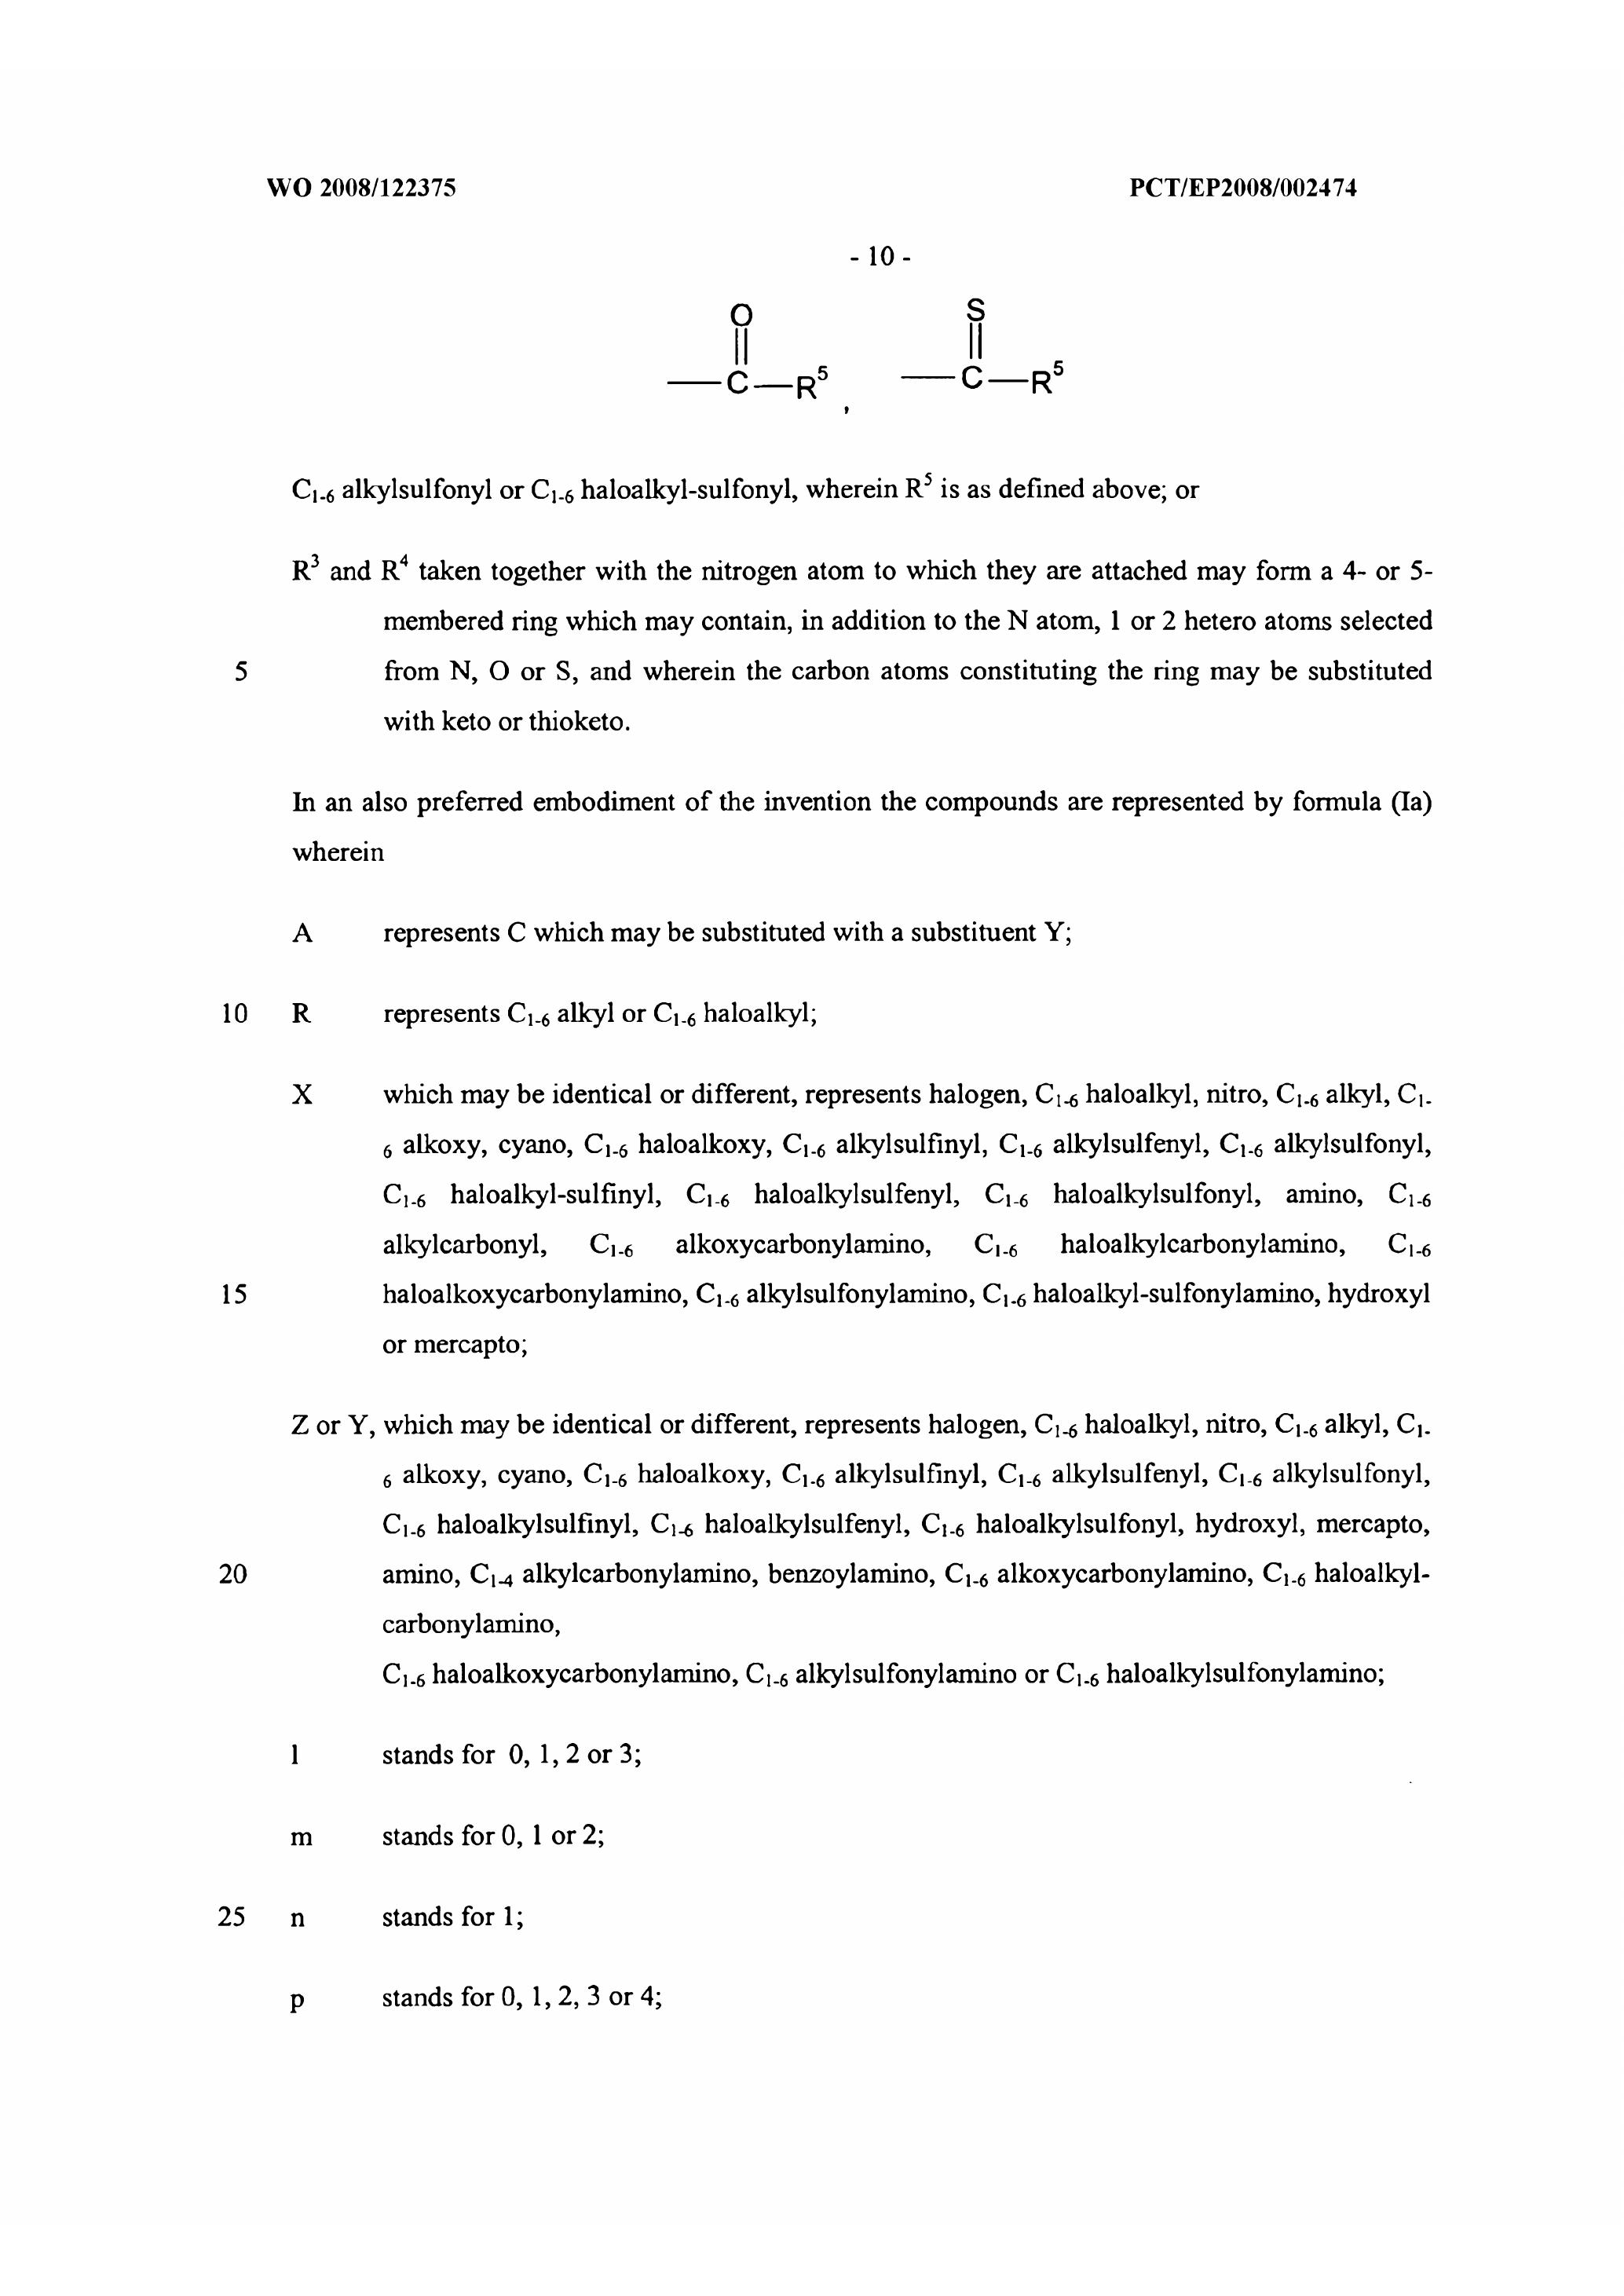substitutes: (239, 241, 1483, 759)
